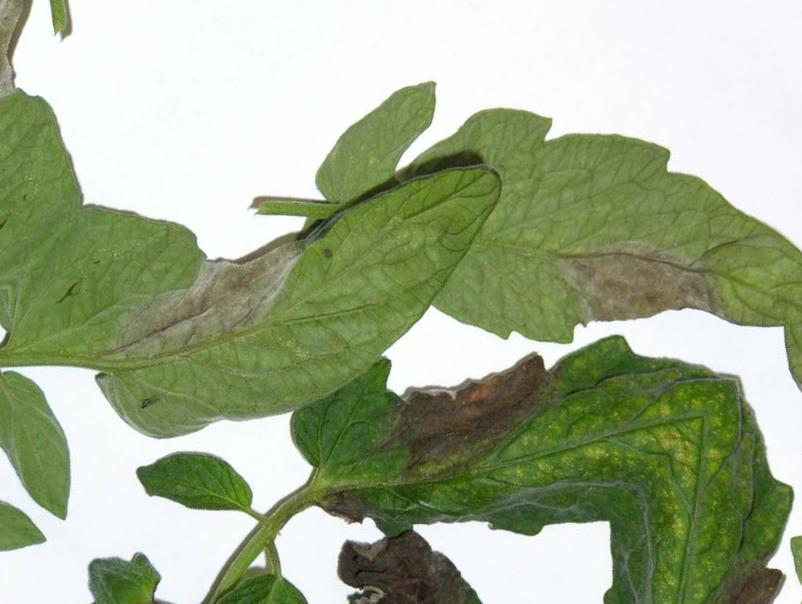Tomato leaf late blight: (0, 0, 531, 547), (277, 0, 802, 517), (271, 174, 741, 604)
